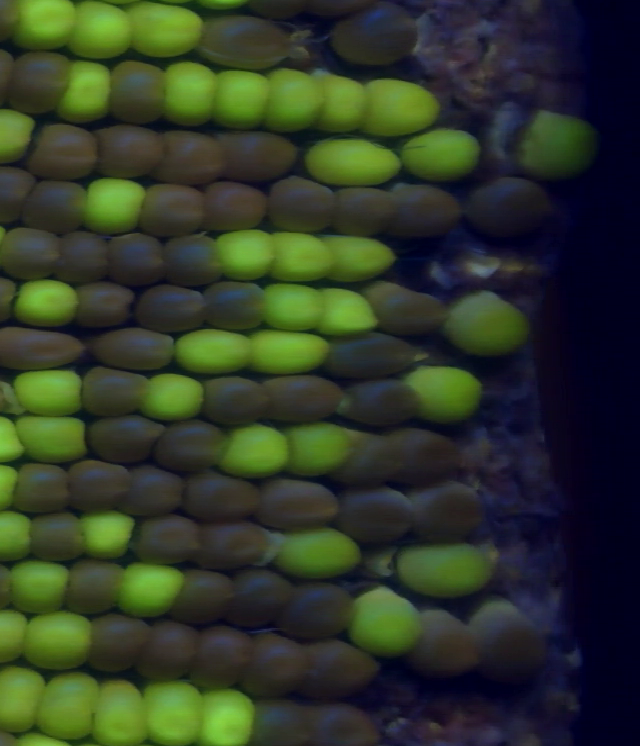fluorescent: (517, 98, 603, 180), (391, 540, 497, 599), (306, 127, 407, 188), (350, 587, 423, 662), (19, 610, 102, 675), (446, 292, 533, 353), (404, 362, 486, 425), (398, 125, 489, 178), (35, 669, 101, 740), (249, 325, 336, 377), (9, 410, 94, 463), (139, 678, 205, 746), (81, 175, 152, 238), (126, 1, 204, 58), (68, 1, 139, 63), (281, 528, 369, 578), (221, 421, 293, 482), (88, 675, 149, 746), (364, 78, 441, 134), (3, 557, 80, 613), (56, 54, 117, 124), (310, 68, 373, 135), (159, 60, 218, 131), (319, 232, 398, 285), (212, 68, 279, 130), (282, 418, 353, 476), (173, 327, 257, 375), (116, 560, 183, 620), (209, 227, 278, 282), (268, 67, 326, 132), (258, 278, 329, 330), (315, 284, 383, 338), (138, 371, 210, 421), (198, 684, 256, 746), (268, 227, 333, 282), (13, 367, 89, 414), (11, 278, 81, 327), (80, 506, 141, 562), (0, 663, 50, 731), (23, 1, 79, 54), (0, 110, 35, 167), (0, 506, 34, 562)
nonfluorescent: (466, 599, 547, 685), (359, 278, 452, 340), (411, 606, 484, 684), (466, 178, 557, 240), (296, 638, 386, 700), (181, 469, 277, 526), (198, 16, 295, 72), (210, 126, 302, 184), (325, 10, 418, 64), (191, 621, 259, 694), (336, 485, 418, 542), (259, 373, 347, 426), (324, 329, 421, 376), (154, 125, 229, 184), (8, 49, 71, 119), (278, 584, 359, 638), (247, 632, 309, 702), (27, 124, 104, 180), (153, 421, 232, 475), (411, 481, 482, 541), (255, 477, 343, 525), (395, 424, 462, 487), (20, 177, 94, 234), (229, 564, 291, 632), (197, 523, 276, 576), (109, 64, 174, 128), (335, 434, 411, 488), (267, 174, 334, 235), (343, 378, 423, 429), (391, 182, 461, 240), (59, 556, 126, 615), (136, 184, 212, 236), (199, 178, 270, 233), (139, 618, 198, 684), (78, 366, 154, 417), (134, 284, 208, 336), (89, 612, 150, 675), (0, 323, 89, 366), (89, 326, 174, 371), (94, 124, 162, 180), (203, 278, 268, 335), (83, 415, 161, 462), (329, 184, 400, 235), (171, 568, 234, 625), (104, 233, 169, 288), (204, 377, 275, 426), (161, 234, 225, 288), (24, 513, 92, 563), (307, 705, 387, 746), (55, 230, 115, 284), (0, 226, 62, 278), (132, 517, 201, 562), (65, 461, 129, 509), (125, 468, 188, 516), (244, 699, 308, 746), (10, 461, 69, 509), (75, 281, 134, 326), (0, 161, 34, 222)
